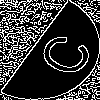C: (25, 25, 97, 81)
